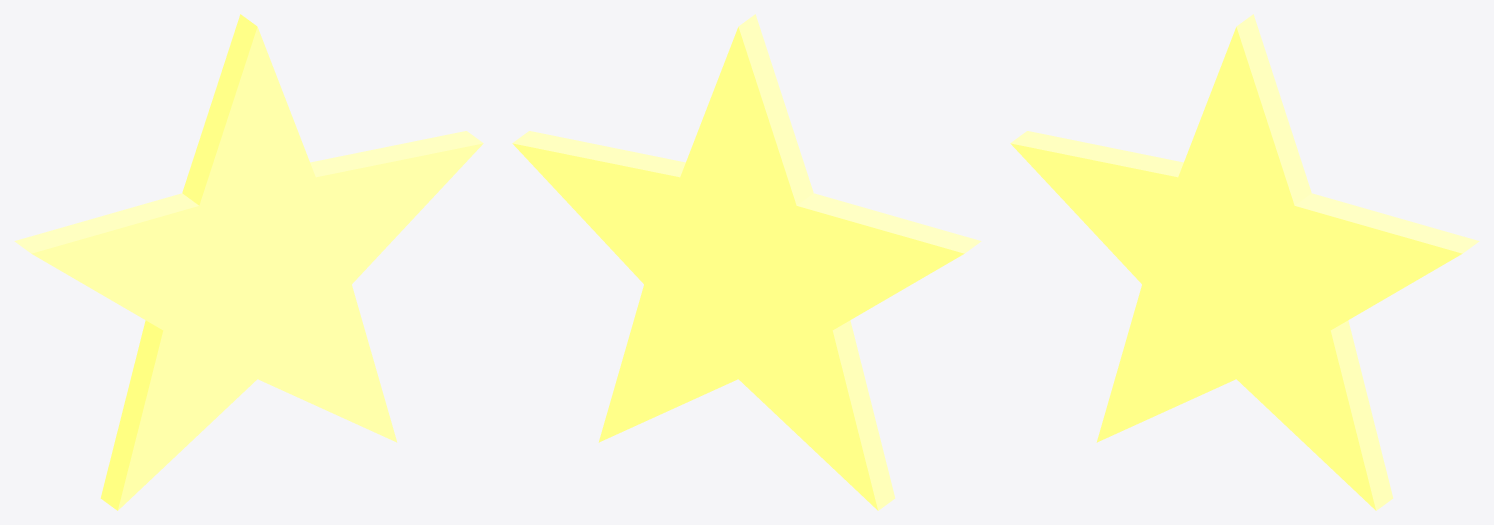
Rendered from impact_star.glb.
3 views of the same model, side by side, from view 1: azimuth 30°, elevation 25°; view 2: azimuth 150°, elevation 25°; view 3: azimuth 330°, elevation 25° (orthographic).
Parts seen in each view (by area): view 1: impact_star; view 2: impact_star; view 3: impact_star.
Part boxes in pixels (x1=…): impact_star: x1=14, y1=14, x2=483, y2=510; impact_star: x1=512, y1=14, x2=981, y2=510; impact_star: x1=1010, y1=14, x2=1479, y2=510.
Bounding box in the file's own units: 0.2283 × 0.2171 × 0.015.
